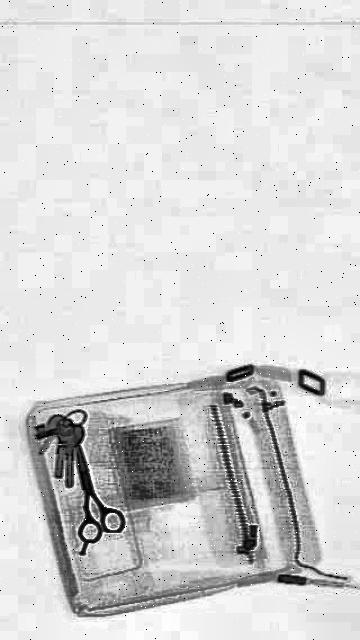Scissors: (58, 428, 128, 556)
